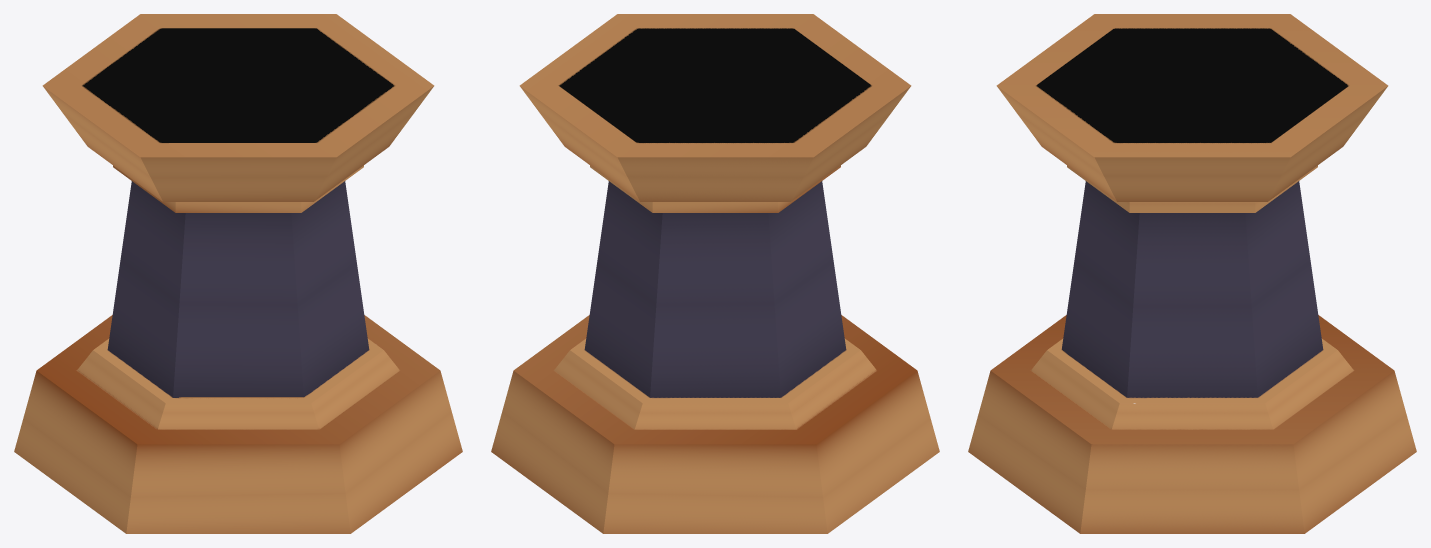
Rendered from magic_door_fire_totem.glb.
The picture shows the model from 3 angles, left to right: view 1: azimuth 30°, elevation 25°; view 2: azimuth 150°, elevation 25°; view 3: azimuth 270°, elevation 25°; orthographic projection.
Visible parts, largest first — view 1: Totem; view 2: Totem; view 3: Totem.
Part boxes in pixels (left/top/right/bottom): Totem: left=14, top=14, right=462, bottom=533; Totem: left=491, top=14, right=939, bottom=533; Totem: left=968, top=14, right=1416, bottom=533.
Size of the model in its own units: 1.21 by 1.26 by 1.4.
Materials: 1 (1 with a texture image).
